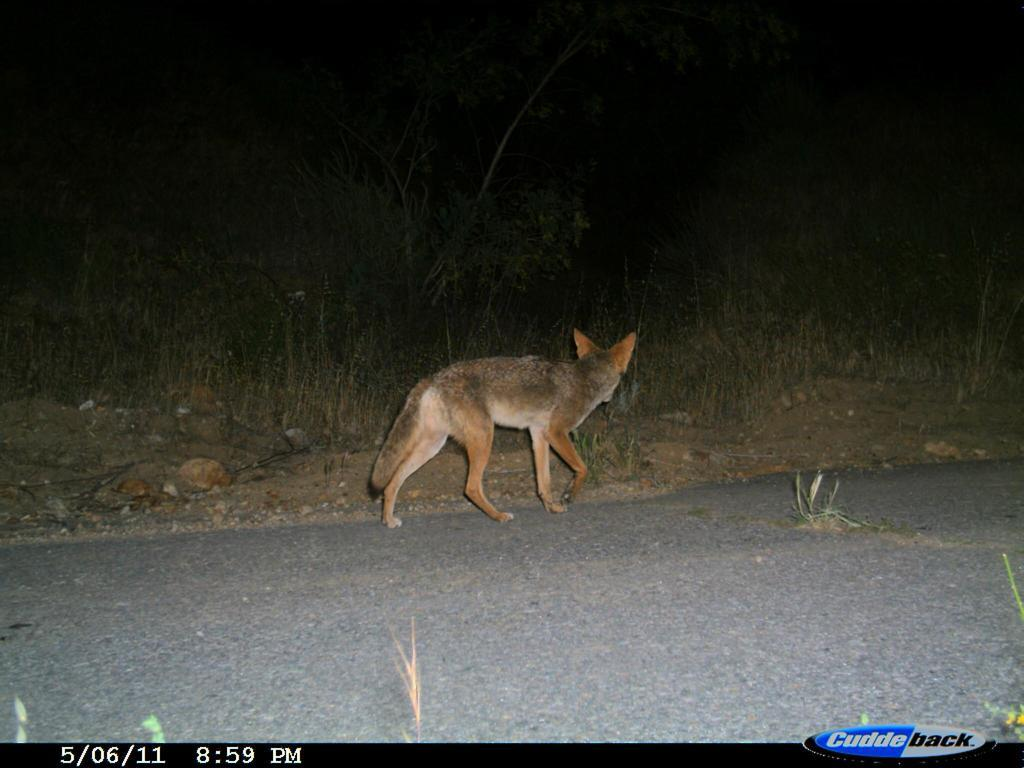coyote: (367, 323, 643, 534)
